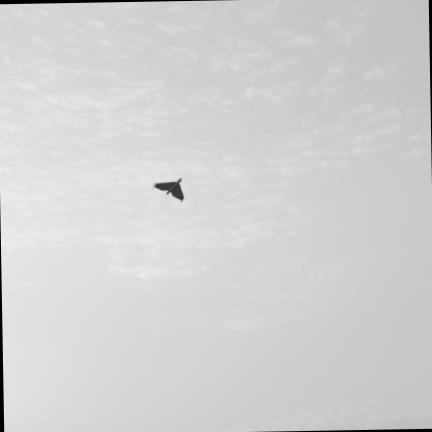Shahed: (153, 178, 183, 200)
